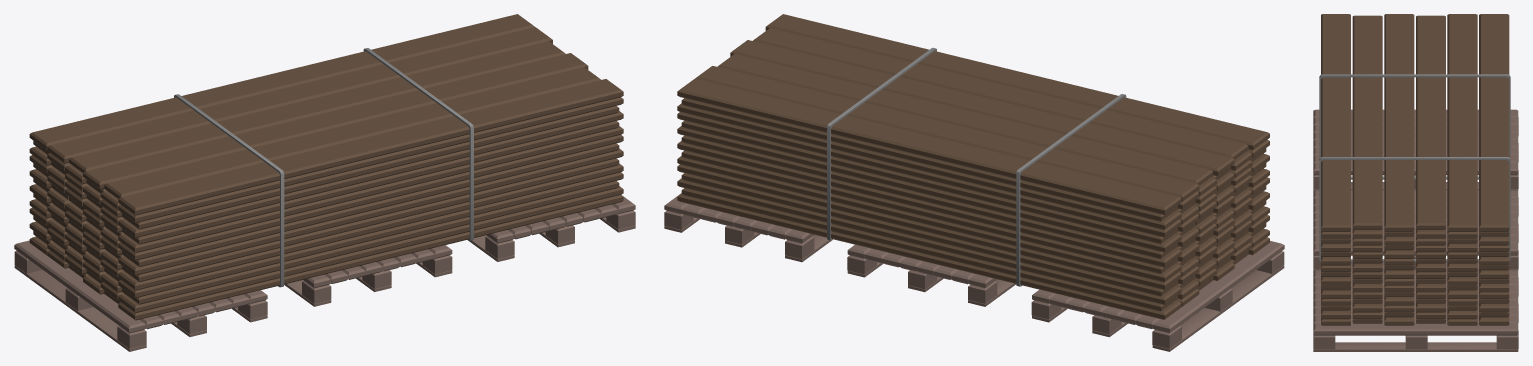
The model's file is props_03.glb.
3 renders of one model, left to right at view 1: azimuth 30°, elevation 25°; view 2: azimuth 150°, elevation 25°; view 3: azimuth 270°, elevation 25°, orthographic. The views are drawn at different scales.
Parts seen in each view (by area): view 1: props_03; view 2: props_03; view 3: props_03.
Boxes of the visible parts, box(x1,y1,x2,y2) form: props_03: box(14, 14, 635, 351); props_03: box(664, 14, 1284, 351); props_03: box(1313, 14, 1518, 351).
Bounding box in the file's own units: 7.26 × 1.92 × 2.85.
1 material, 1 textured.
